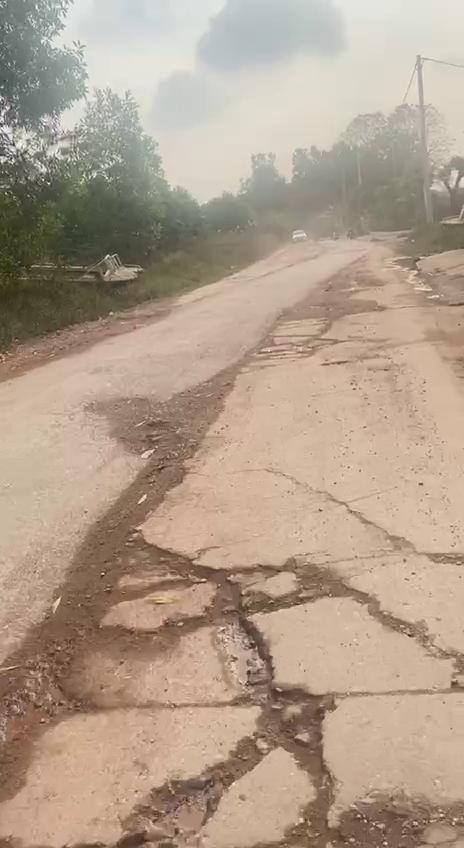pothole: (50, 547, 394, 715), (108, 711, 462, 848), (80, 427, 200, 548)
